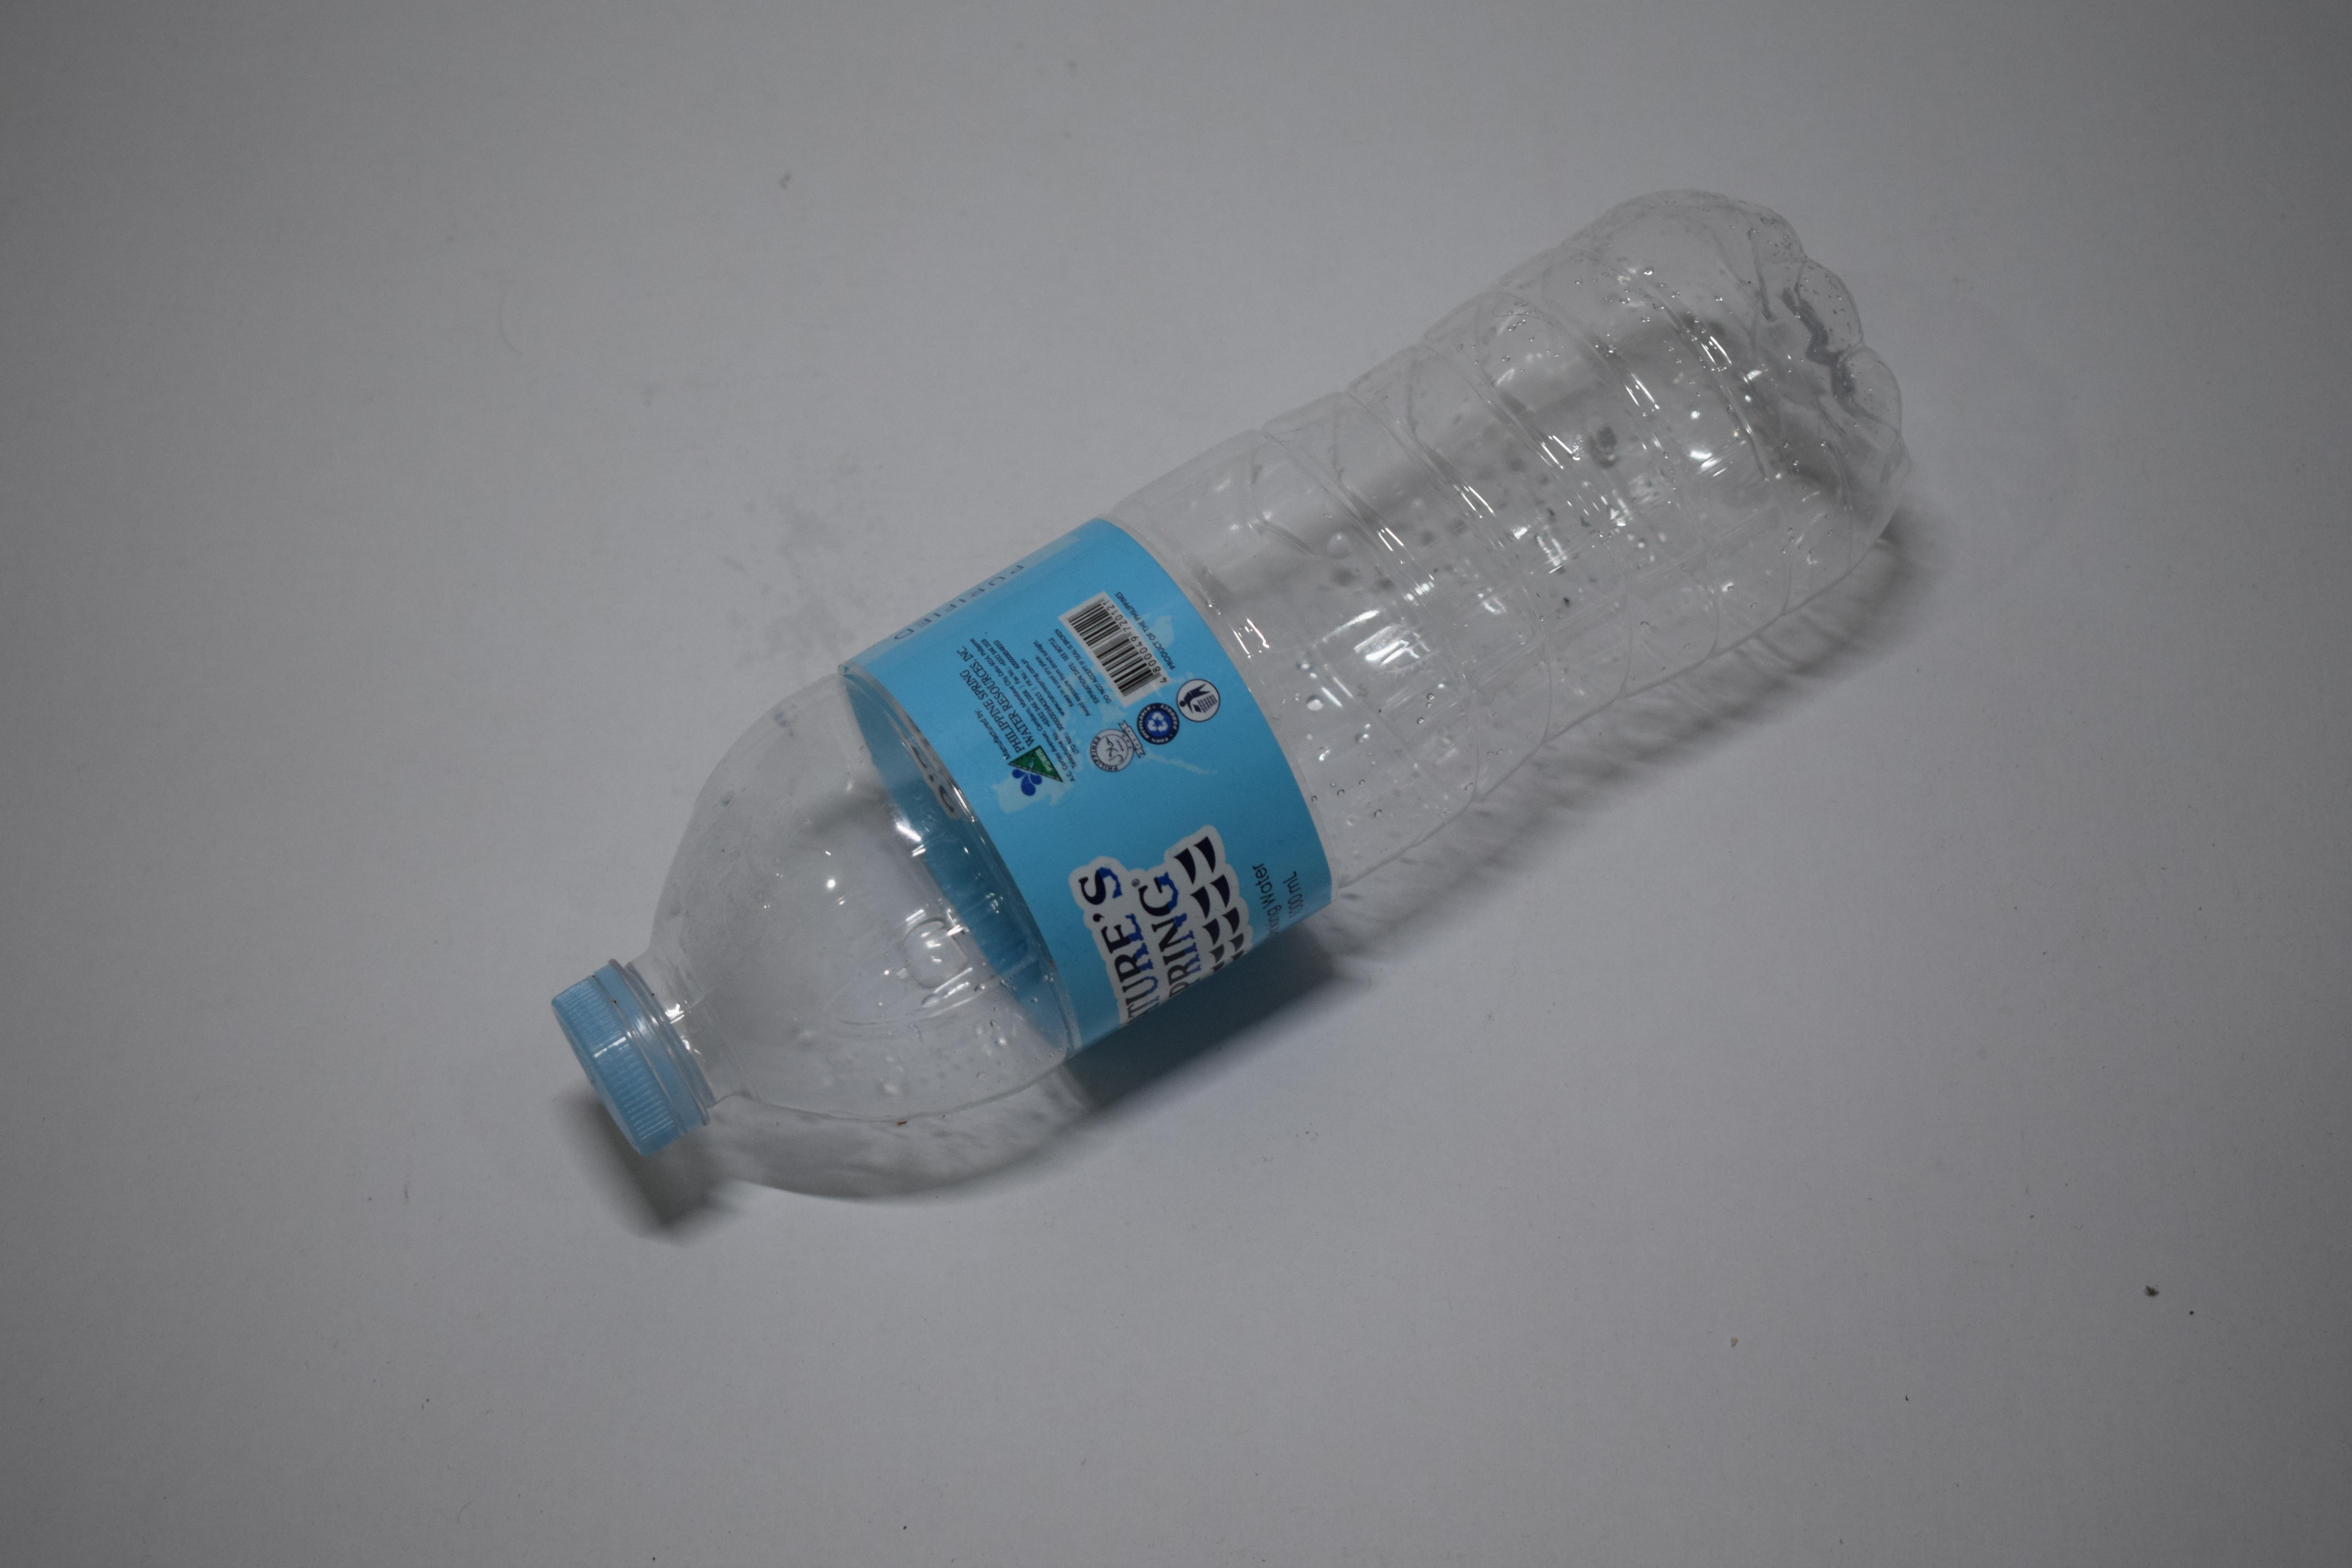bottle: (0, 177, 142, 1160)
